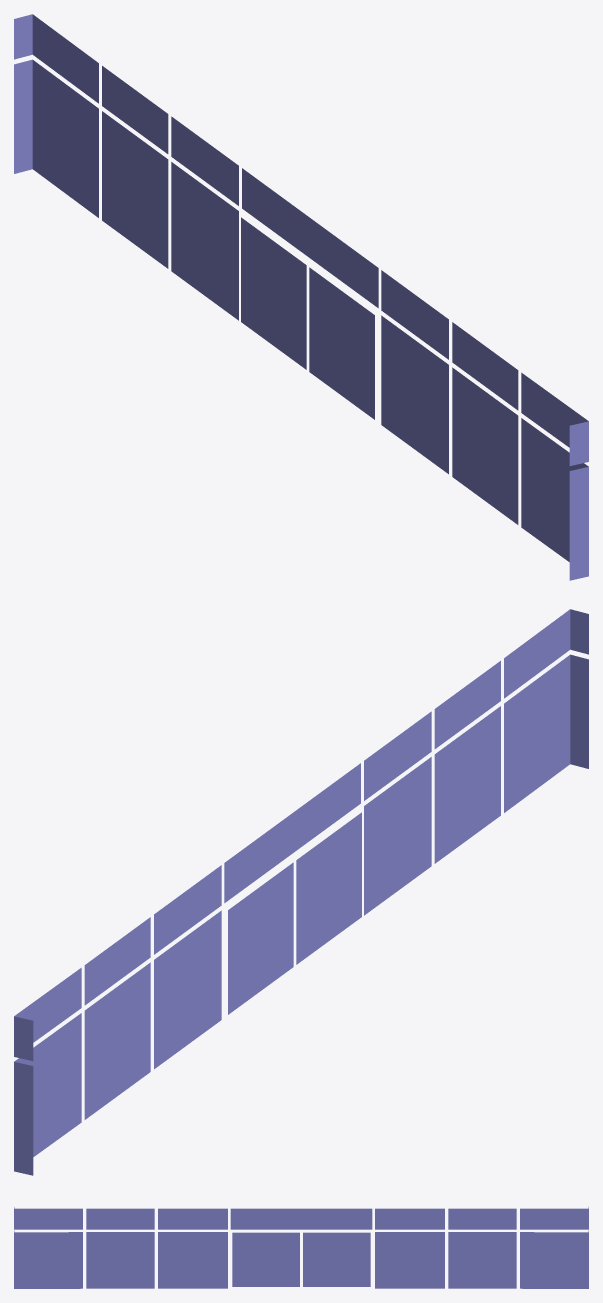
The model's file is building7-glass.fbx.
3 renders of one model, top to bottom at view 1: azimuth 30°, elevation 25°; view 2: azimuth 150°, elevation 25°; view 3: azimuth 270°, elevation 25°, orthographic. The views are drawn at different scales.
Parts seen in each view (by area): view 1: building7-glass; view 2: building7-glass; view 3: building7-glass.
Part boxes in pixels (bbox=[...]): building7-glass: bbox=[14, 14, 588, 580]; building7-glass: bbox=[14, 609, 588, 1175]; building7-glass: bbox=[14, 1207, 588, 1288].
Bounding box in the file's own units: 0.5925 × 4.6 × 29.9.
